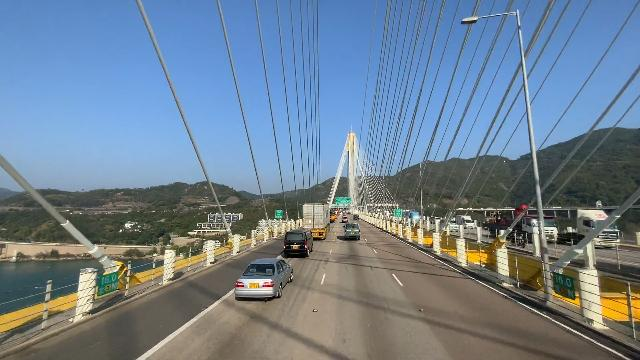car: (236, 256, 295, 302), (444, 219, 460, 233), (342, 215, 348, 223), (353, 214, 359, 221)
motorcycle: (507, 228, 526, 249)
truck: (530, 205, 619, 249), (487, 208, 558, 245), (303, 203, 331, 241), (455, 214, 477, 230)
van: (283, 228, 315, 259), (342, 219, 361, 242)
